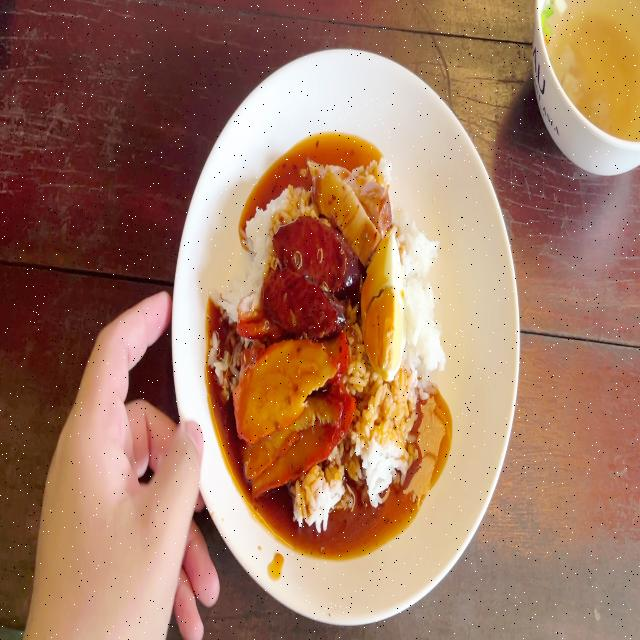boiled_egg: (359, 238, 407, 378)
chainese_sausage: (269, 214, 354, 330), (272, 220, 358, 286), (267, 271, 344, 335)
crispy_pork: (313, 155, 387, 245)
red_pork: (238, 336, 354, 488), (234, 338, 351, 431), (251, 396, 353, 496), (238, 288, 262, 336)
red_pork_and_crispy_pork: (210, 152, 448, 530)
rice: (357, 380, 424, 500), (404, 210, 442, 382)
